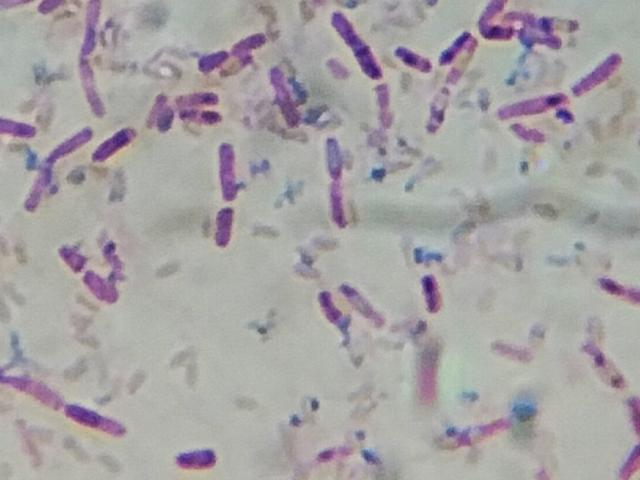E. coli: (328, 13, 381, 81), (64, 399, 131, 438), (216, 135, 254, 200), (491, 92, 570, 119), (341, 282, 394, 322), (573, 47, 623, 89), (74, 0, 109, 58), (269, 65, 299, 130), (3, 373, 54, 410), (82, 267, 123, 313), (79, 62, 112, 117), (511, 9, 580, 34), (210, 205, 245, 253), (26, 169, 59, 217), (95, 127, 139, 162), (171, 442, 220, 473), (328, 176, 355, 232), (372, 85, 406, 129), (585, 345, 622, 385), (419, 267, 451, 312), (429, 27, 466, 63), (425, 82, 451, 133), (312, 283, 341, 326), (492, 29, 558, 47), (393, 45, 425, 80), (56, 239, 84, 278), (53, 127, 86, 160), (0, 107, 27, 147), (610, 444, 640, 480), (321, 130, 350, 167), (145, 96, 172, 129), (203, 40, 226, 78), (231, 29, 269, 51), (226, 55, 258, 81), (182, 107, 225, 123), (619, 395, 640, 425), (179, 92, 212, 110), (476, 5, 495, 33)
